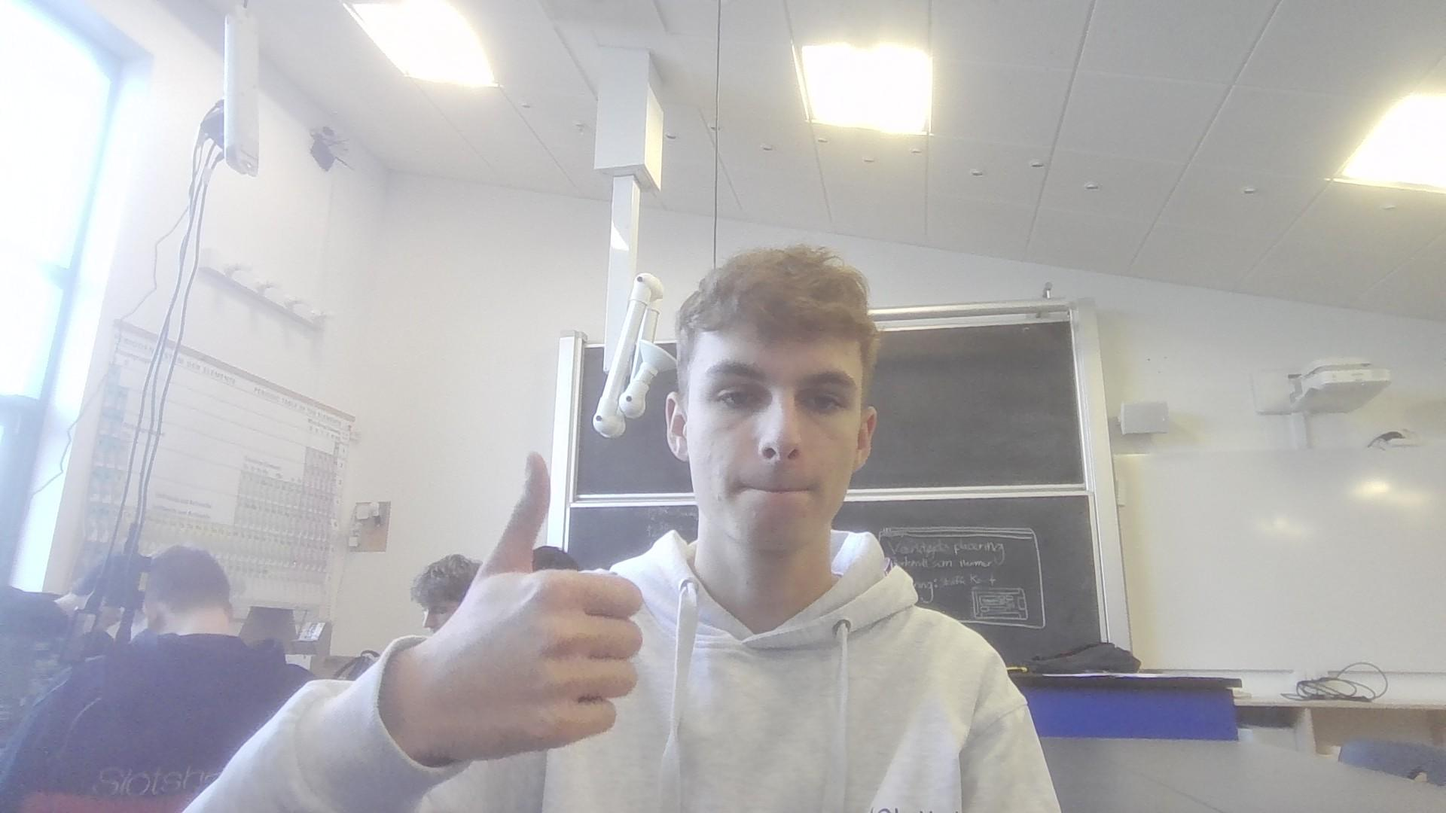thumbs up: (388, 452, 648, 773)
